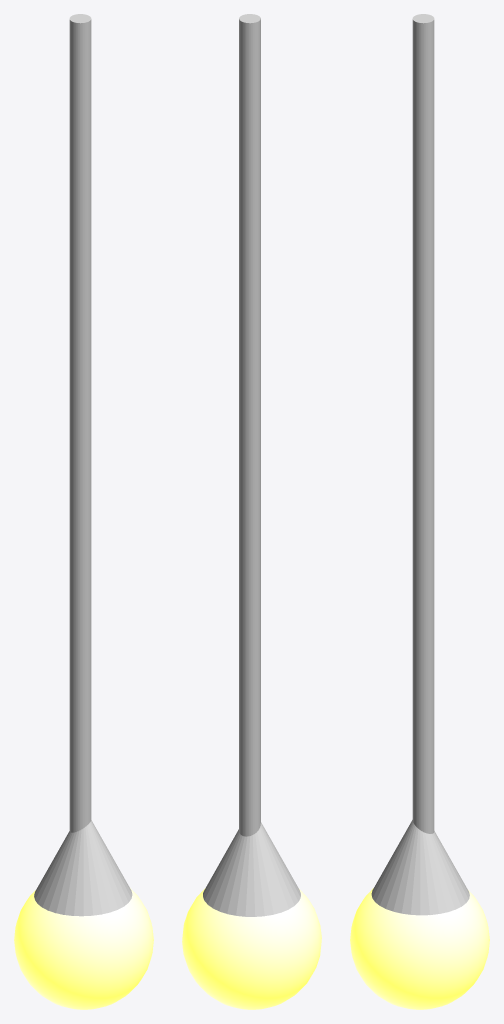
File: bulb.fbx
3 renders of one model, left to right at view 1: azimuth 90°, elevation 25°; view 2: azimuth 150°, elevation 25°; view 3: azimuth 270°, elevation 25°, orthographic.
Parts seen in each view (by area): view 1: Cylinder, Sphere.001, Cone; view 2: Cylinder, Sphere.001, Cone; view 3: Cylinder, Sphere.001, Cone.
Part boxes in pixels (box(x1,y1,x2,y2)): Cylinder: box(69, 14, 91, 832); Sphere.001: box(14, 888, 153, 1009); Cone: box(34, 820, 132, 916); Cylinder: box(239, 14, 260, 836); Sphere.001: box(182, 888, 321, 1009); Cone: box(203, 822, 300, 916); Cylinder: box(412, 14, 434, 833); Sphere.001: box(350, 888, 489, 1009); Cone: box(371, 820, 469, 915).
Bounding box in the file's own units: 858 × 6665 × 858.
